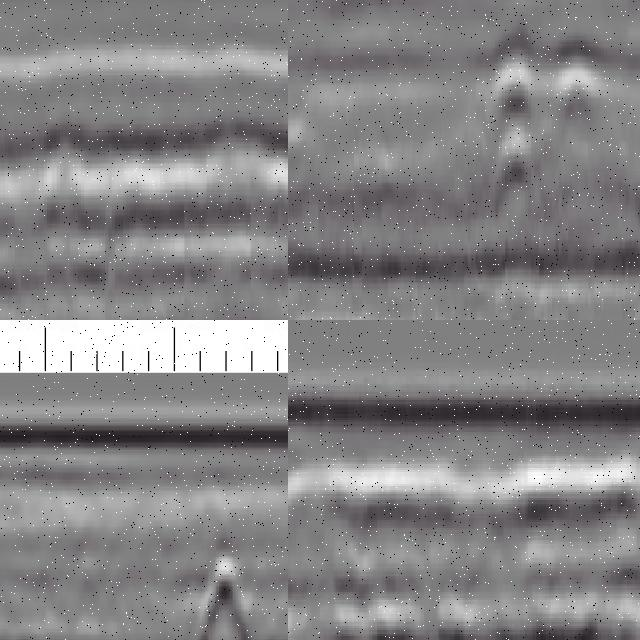crack: (192, 498, 252, 640)
loose: (487, 3, 604, 198)
